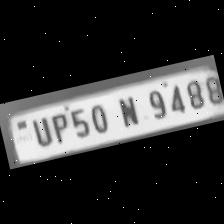0: (83, 100, 114, 136)
4: (163, 80, 188, 116)
5: (64, 105, 91, 141)
8: (180, 76, 208, 112), (200, 71, 223, 107)
9: (139, 85, 169, 122)
N: (110, 91, 144, 130)
P: (46, 110, 72, 145)
U: (26, 113, 55, 150)
